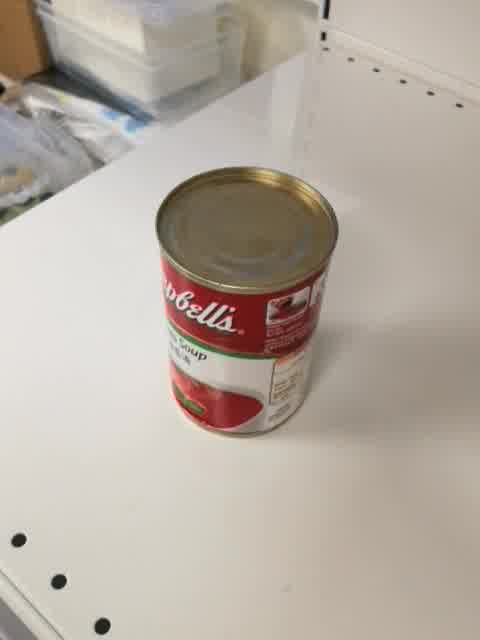tomatosoup: (154, 165, 341, 439)
